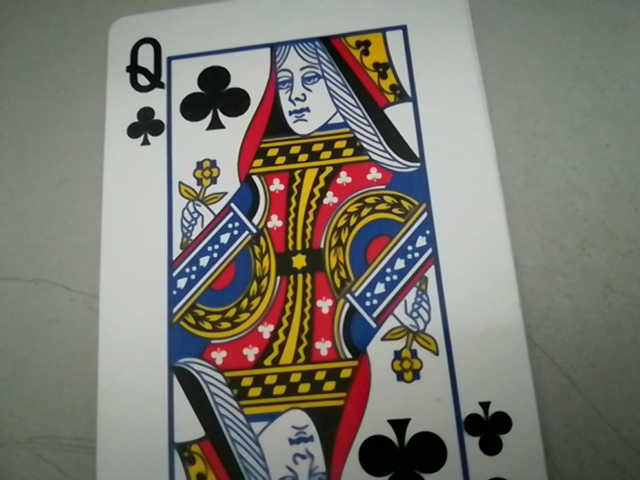mh q: (116, 21, 166, 148)
